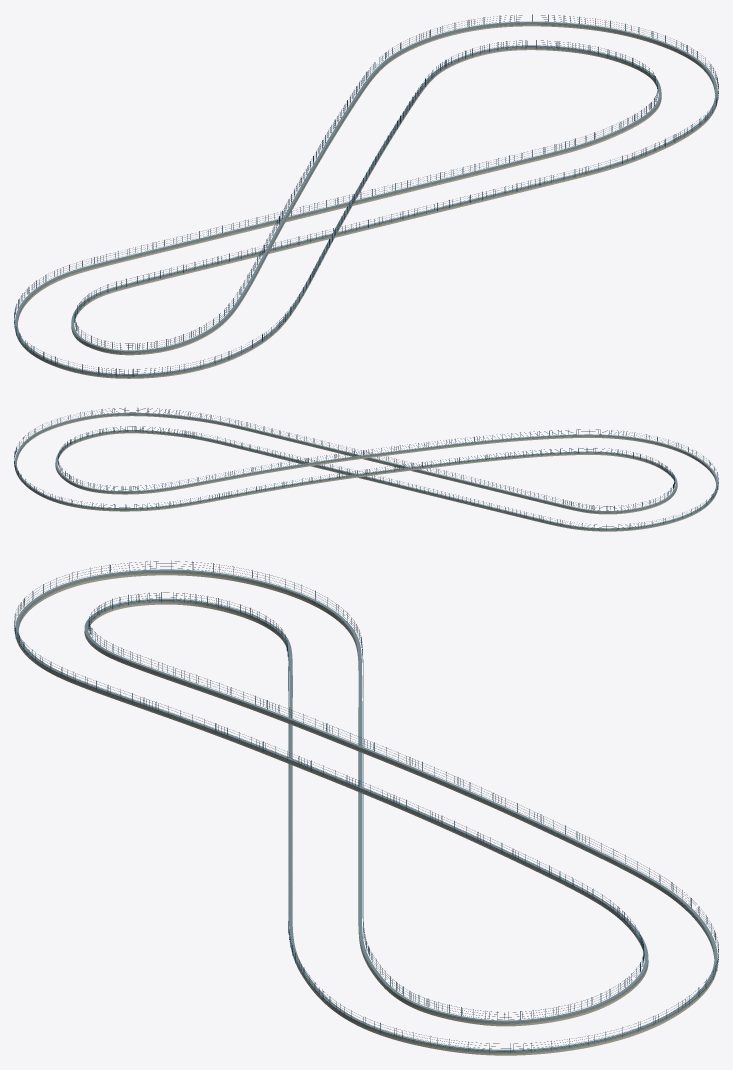
The model's file is track_safety.glb.
3 views of the same model, one above another, from view 1: azimuth 30°, elevation 25°; view 2: azimuth 150°, elevation 25°; view 3: azimuth 270°, elevation 25° (orthographic). The views are drawn at different scales.
Parts seen in each view (by area): view 1: CorrugatedRail, SafetyPlinth; view 2: CorrugatedRail, SafetyPlinth, FenceGrid10, FenceGrid05, FenceGrid06, FenceGrid04, FenceGrid07, FenceGrid02, FenceGrid08; view 3: CorrugatedRail, SafetyPlinth, FenceGrid09.
Boxes of the visible parts, bbox=[...] form: CorrugatedRail: bbox=[15, 21, 717, 377]; SafetyPlinth: bbox=[15, 23, 717, 378]; CorrugatedRail: bbox=[14, 412, 718, 530]; SafetyPlinth: bbox=[14, 414, 717, 531]; FenceGrid10: bbox=[80, 408, 227, 439]; FenceGrid05: bbox=[392, 432, 532, 468]; FenceGrid06: bbox=[263, 447, 402, 486]; FenceGrid04: bbox=[521, 429, 662, 458]; FenceGrid07: bbox=[137, 466, 271, 508]; FenceGrid02: bbox=[543, 499, 690, 528]; FenceGrid08: bbox=[19, 467, 139, 508]; CorrugatedRail: bbox=[15, 569, 717, 1053]; SafetyPlinth: bbox=[15, 571, 717, 1055]; FenceGrid09: bbox=[399, 995, 655, 1051].
Size of the model in its own units: 277 by 11.5 by 172.
